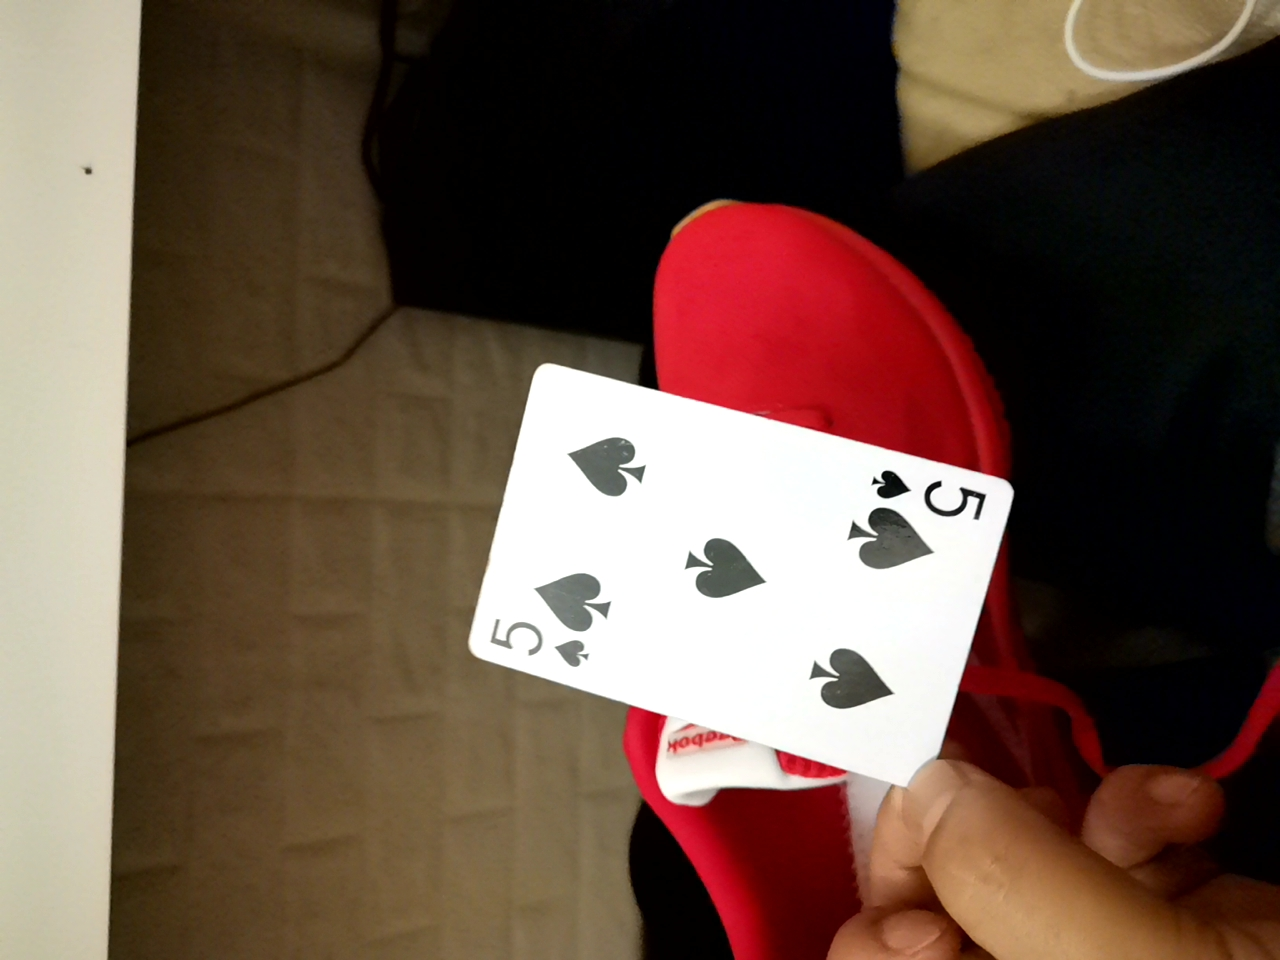ht 5: (469, 372, 1006, 802)
